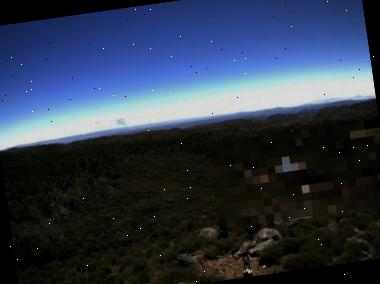smoke: (111, 115, 132, 130)
